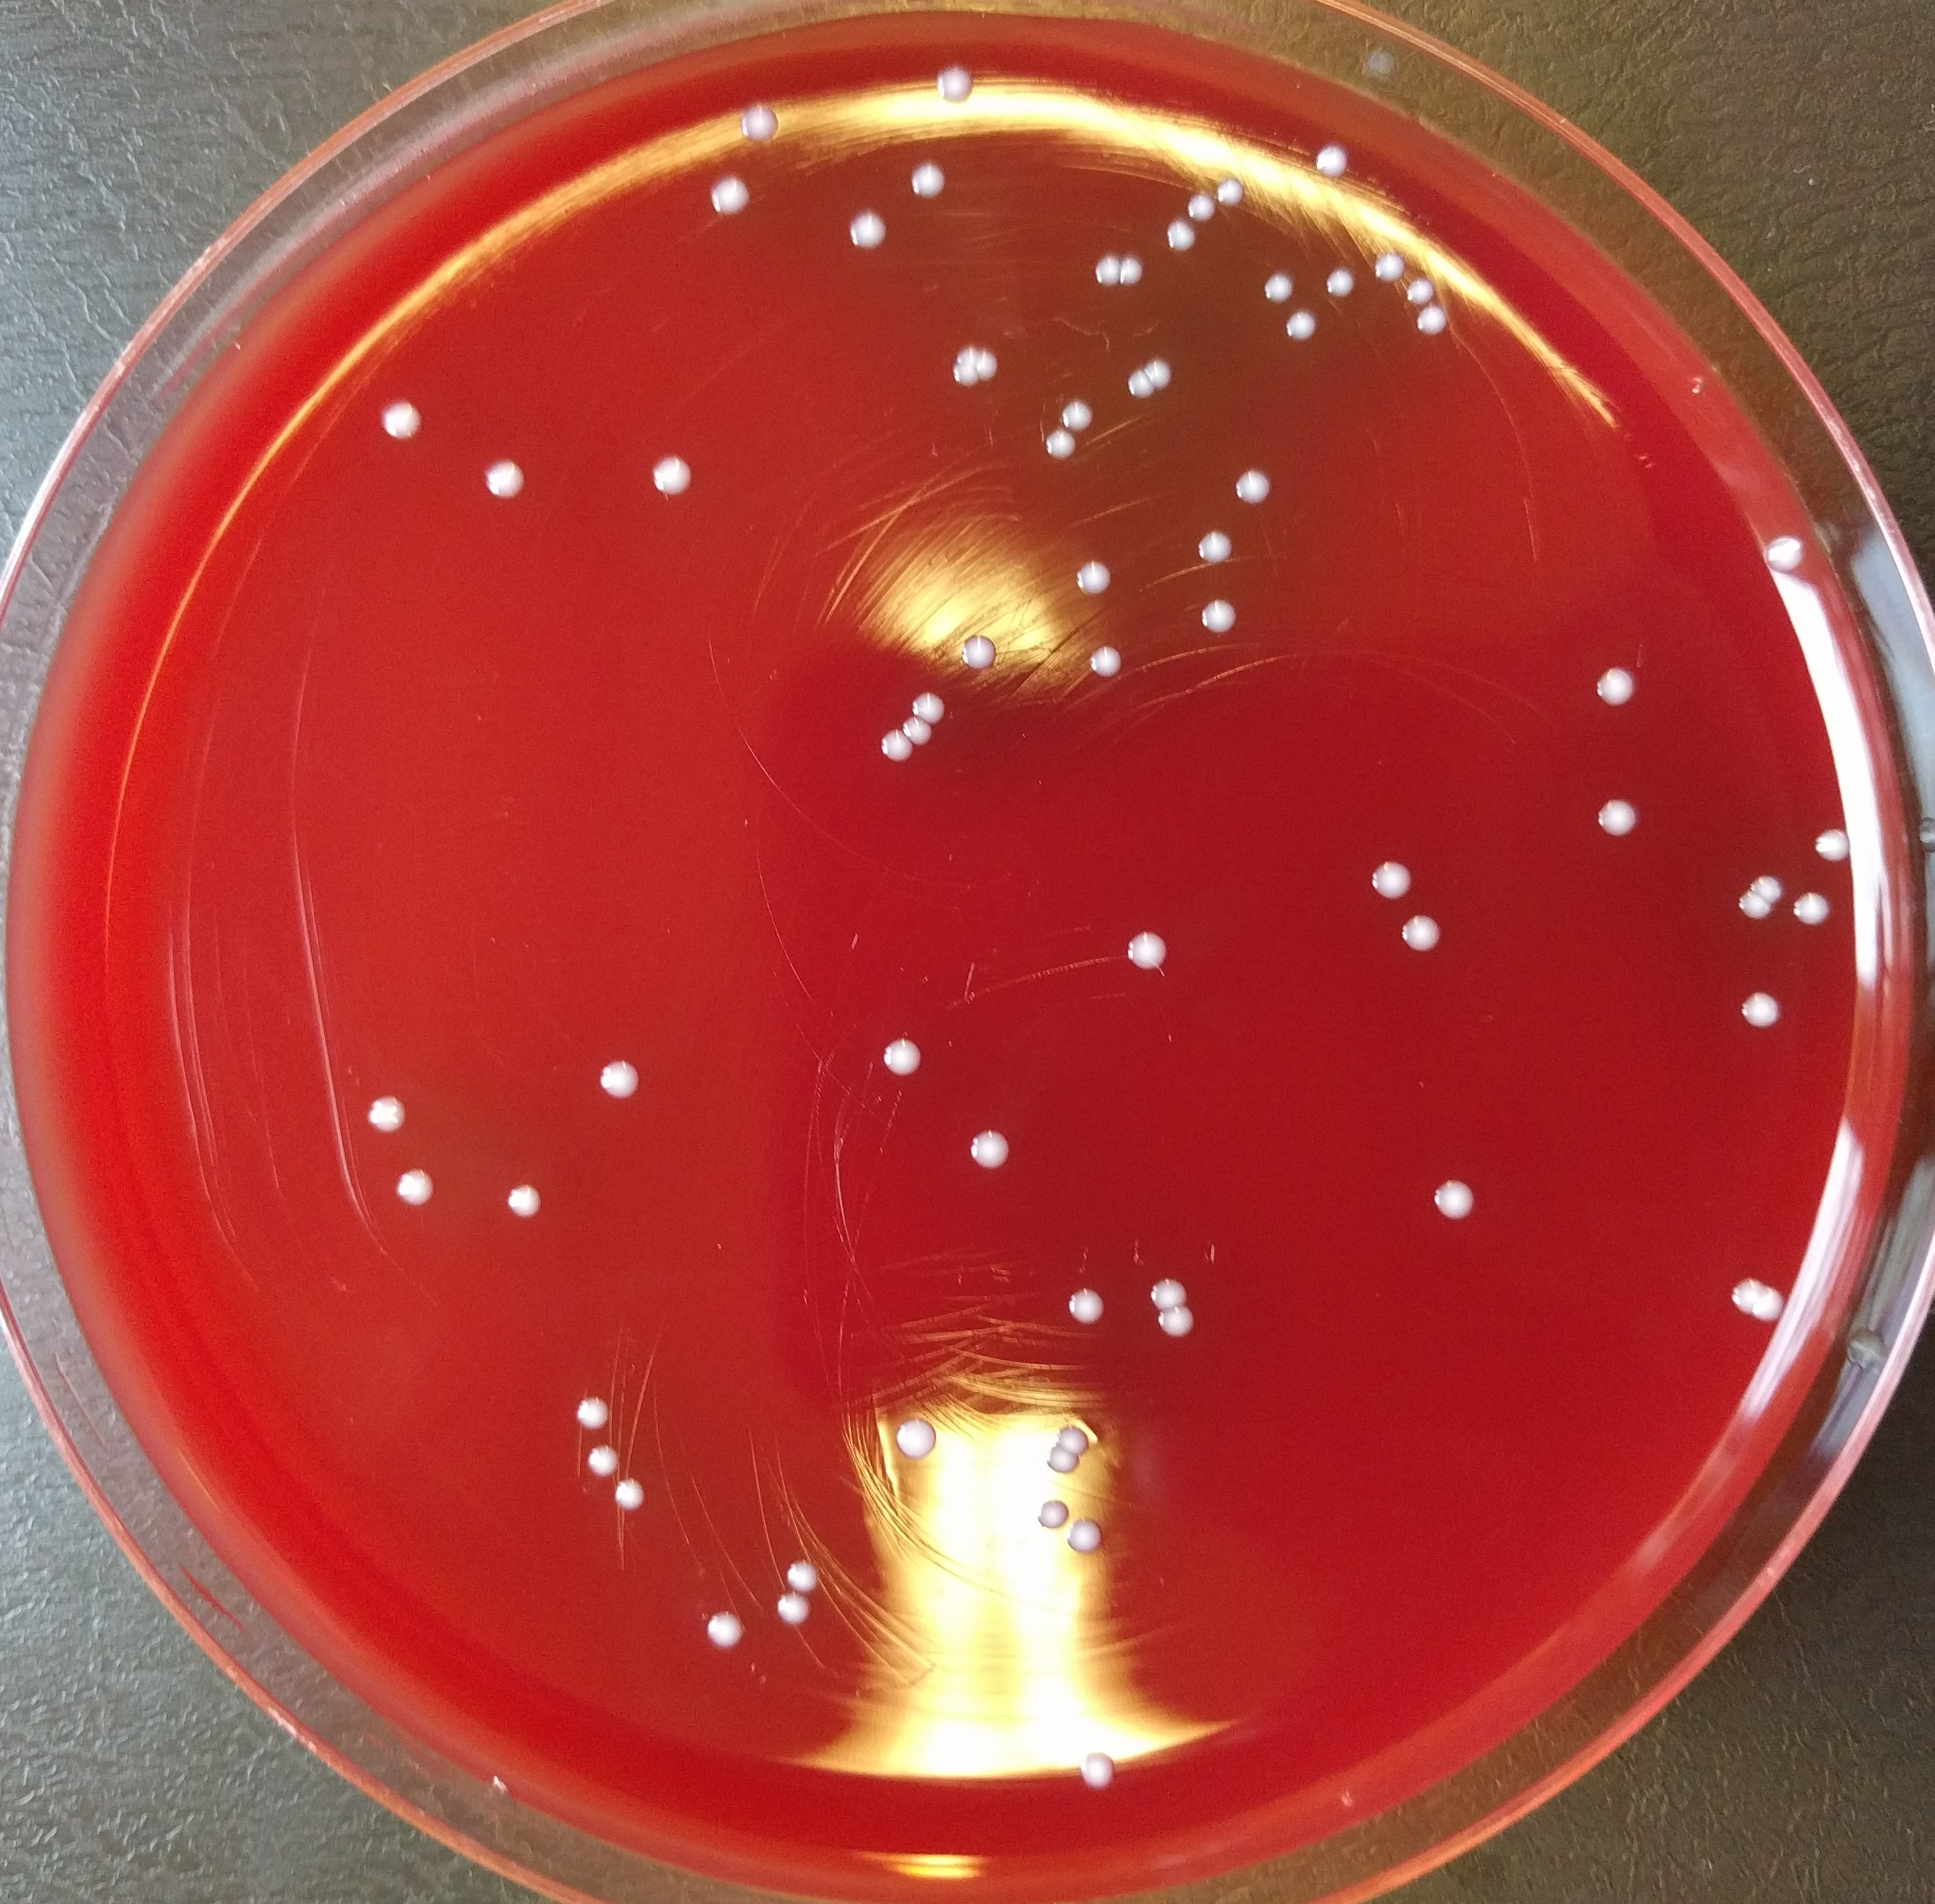sp23: (324, 1051, 432, 1147), (356, 368, 458, 466), (539, 1358, 643, 1449), (1550, 631, 1653, 720), (366, 1147, 458, 1240), (1409, 1158, 1501, 1247), (1715, 975, 1811, 1055), (561, 1065, 664, 1137), (1030, 1261, 1114, 1346), (866, 1405, 967, 1475), (671, 1574, 746, 1667), (948, 1111, 1037, 1187), (1571, 790, 1670, 853), (1701, 1273, 1811, 1329), (628, 441, 715, 511), (696, 160, 795, 221), (495, 1170, 565, 1254), (838, 194, 906, 279), (919, 44, 994, 115), (584, 1461, 661, 1531), (1335, 844, 1419, 907), (1060, 1730, 1144, 1792), (849, 1032, 940, 1088), (1096, 929, 1187, 985), (1796, 874, 1862, 949), (1015, 417, 1098, 476), (1748, 523, 1825, 586), (896, 141, 954, 225), (1133, 1261, 1213, 1320), (729, 78, 802, 143), (750, 1583, 826, 1641), (1792, 830, 1900, 870), (760, 1550, 830, 1611), (558, 1428, 654, 1472), (1180, 532, 1266, 581), (1137, 1309, 1222, 1358), (938, 624, 1002, 687), (943, 326, 1006, 389), (1180, 584, 1246, 643), (866, 729, 936, 785), (1062, 553, 1130, 609), (1217, 471, 1292, 521), (1077, 629, 1144, 685), (485, 446, 542, 509), (1144, 342, 1206, 394), (1051, 385, 1114, 434), (896, 701, 955, 751), (1269, 307, 1337, 350), (1058, 1404, 1110, 1454), (1206, 164, 1253, 220), (1105, 370, 1170, 410), (906, 671, 961, 718), (1151, 216, 1201, 263), (1110, 246, 1154, 300), (1063, 1517, 1119, 1559), (1175, 178, 1222, 227), (1395, 267, 1445, 312), (1030, 1484, 1072, 1538), (1402, 910, 1450, 955), (1360, 244, 1405, 293), (1325, 265, 1370, 312), (1084, 239, 1119, 300), (1307, 139, 1355, 183), (1416, 307, 1456, 352), (1255, 274, 1311, 303), (1733, 891, 1778, 922), (1750, 868, 1790, 903), (1044, 1447, 1079, 1479)
